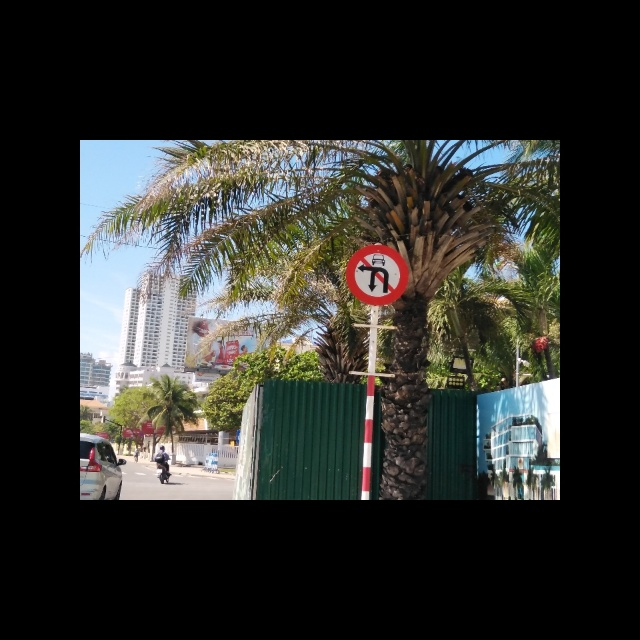Cấm xe ô tô quay đầu và rẽ trái: (344, 243, 414, 306)
